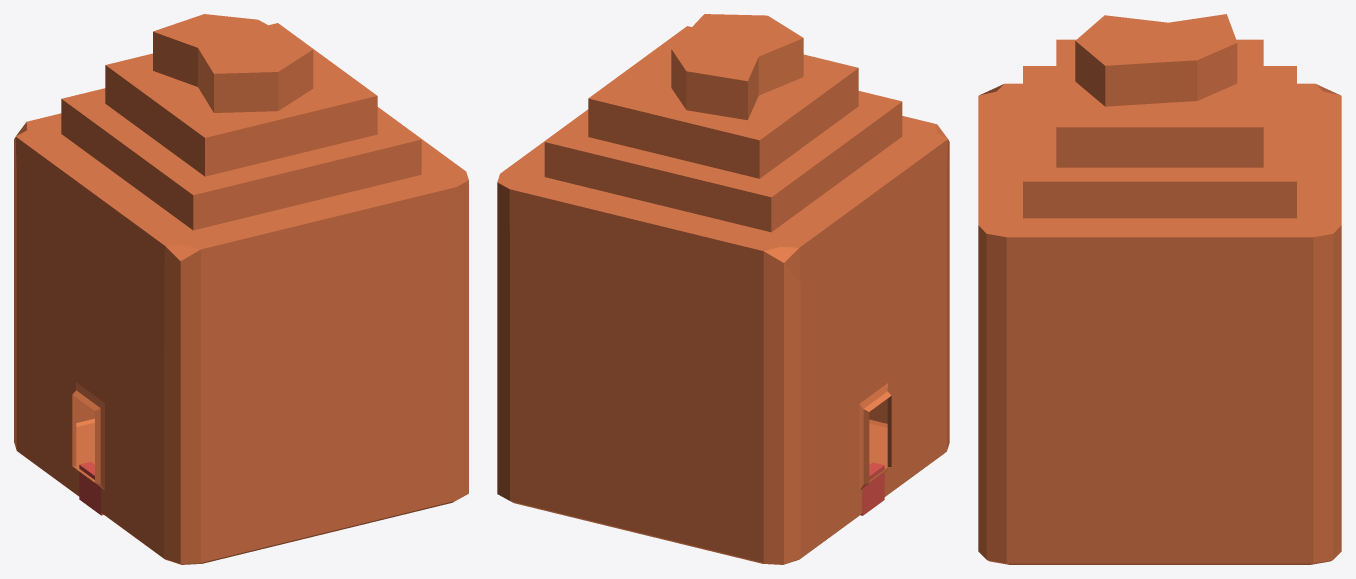
File: last-sallr.fbx
3 renders of one model, left to right at view 1: azimuth 30°, elevation 25°; view 2: azimuth 150°, elevation 25°; view 3: azimuth 270°, elevation 25°, orthographic. The views are drawn at different scales.
Parts seen in each view (by area): view 1: salle_final_low, escalier_final_low; view 2: salle_final_low, escalier_final_low; view 3: salle_final_low.
Part boxes in pixels (left/top/right/bottom): salle_final_low: left=14, top=14, right=468, bottom=564; escalier_final_low: left=79, top=462, right=103, bottom=515; salle_final_low: left=497, top=14, right=949, bottom=564; escalier_final_low: left=860, top=462, right=884, bottom=515; salle_final_low: left=978, top=14, right=1341, bottom=564.
Bounding box in the file's own units: 24.29 × 24.83 × 33.75.
